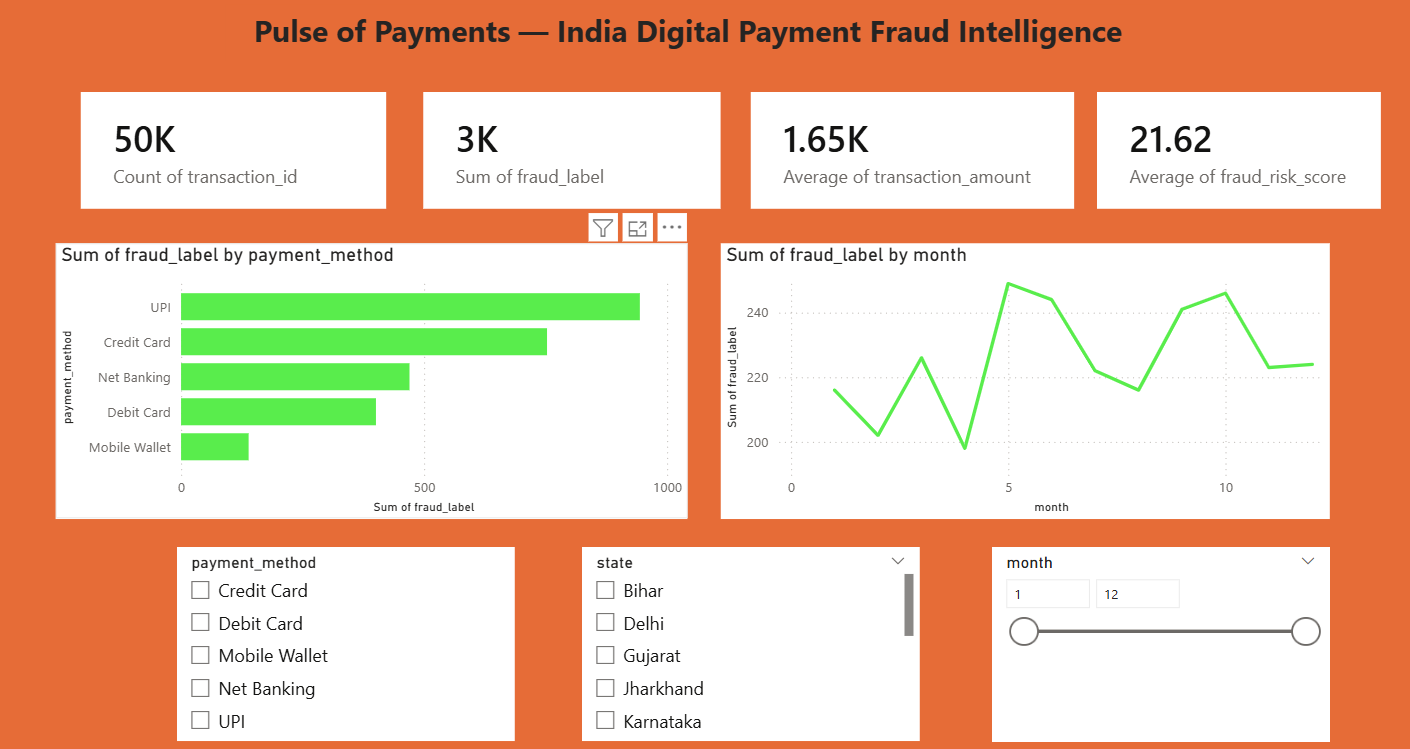

What the dashboard file says about the page in this screenshot:
{"tool":"powerbi","page":{"name":"Executive Overview","canvas":[1280,720],"ordinal":0},"visuals":[{"type":"textbox","box":[212.7,50.8,823.3,50.8],"z":0},{"type":"cardVisual","fields":{"Data":["CountNonNull(india_payments_clean.transaction_id)"]},"box":[83.7,129,271.7,104.3],"z":1000},{"type":"cardVisual","fields":{"Data":["Sum(india_payments_clean.fraud_label)"]},"box":[388.3,129,264.8,104.3],"z":2000},{"type":"cardVisual","fields":{"Data":["Avg(india_payments_clean.transaction_amount)"]},"box":[680.6,129,288.2,104.3],"z":3000},{"type":"cardVisual","fields":{"Data":["Avg(india_payments_clean.fraud_risk_score)"]},"box":[988,129,252.5,104.3],"z":4000},{"type":"lineChart","fields":{"Y":["Sum(india_payments_clean.fraud_label)"],"Category":["india_payments_clean.month"]},"box":[653.2,263.5,542,245.6],"z":5000},{"type":"clusteredBarChart","fields":{"Category":["india_payments_clean.payment_method"],"Y":["Sum(india_payments_clean.fraud_label)"]},"box":[61.7,263.5,562.6,245.6],"z":6000},{"type":"slicer","fields":{"Values":["india_payments_clean.payment_method"]},"box":[168.8,533.8,300.5,172.9],"z":7000},{"type":"slicer","fields":{"Values":["india_payments_clean.state"]},"box":[529.7,533.8,300.5,172.9],"z":8000},{"type":"slicer","fields":{"Values":["india_payments_clean.month"]},"box":[894.7,533.8,300.5,172.9],"z":9000}]}

Visuals, with their boxes on the page's 1280x720 design canvas (x1, y1, x2, y2). These are canvas units, not pixel positions in the 1410x749 screenshot, which may show the page scaled, cropped or inside an application window:
textbox: detection(213, 51, 1036, 102)
cardVisual - CountNonNull(india_payments_clean.transaction_id): detection(84, 129, 355, 233)
cardVisual - Sum(india_payments_clean.fraud_label): detection(388, 129, 653, 233)
cardVisual - Avg(india_payments_clean.transaction_amount): detection(681, 129, 969, 233)
cardVisual - Avg(india_payments_clean.fraud_risk_score): detection(988, 129, 1240, 233)
lineChart - Sum(india_payments_clean.fraud_label) x india_payments_clean.month: detection(653, 264, 1195, 509)
clusteredBarChart - india_payments_clean.payment_method x Sum(india_payments_clean.fraud_label): detection(62, 264, 624, 509)
slicer - india_payments_clean.payment_method: detection(169, 534, 469, 707)
slicer - india_payments_clean.state: detection(530, 534, 830, 707)
slicer - india_payments_clean.month: detection(895, 534, 1195, 707)
